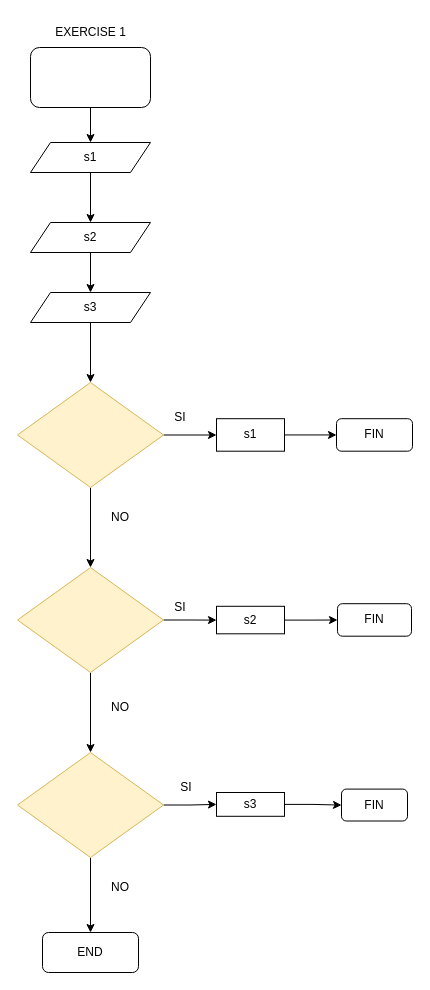
This 430x990 diagram has some shape labels left out. Here are the shapes that lost their labels. From the top down, the centre of each, then its label:
At point (90, 77): "INICIO".
At point (90, 435): "s1 menor que s2 y s3?".
At point (90, 619): "s2 menor que s1 y s3?".
At point (90, 805): "s3 menor que s1 y s2?".
